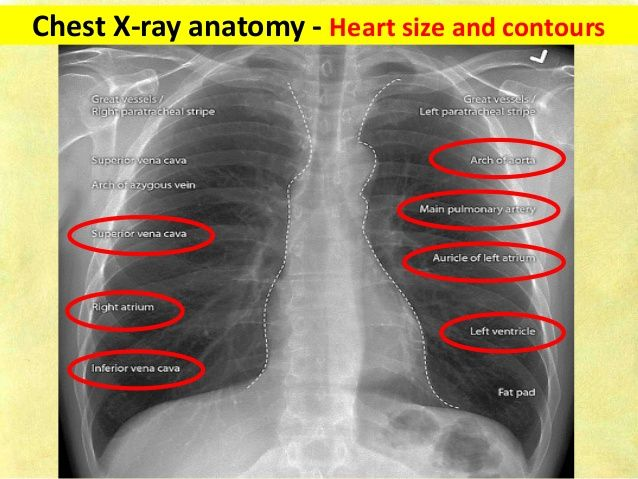telestration: (355, 78, 461, 410), (1, 4, 638, 46), (240, 78, 317, 396), (399, 240, 566, 285), (397, 189, 562, 231), (65, 214, 218, 258), (430, 135, 565, 181), (64, 347, 207, 390), (432, 312, 568, 354), (64, 288, 187, 333), (89, 91, 217, 120), (417, 92, 537, 119), (418, 202, 537, 218), (91, 178, 197, 192), (90, 361, 184, 376), (432, 252, 535, 264), (91, 228, 186, 240), (90, 156, 189, 167), (469, 324, 536, 337), (91, 300, 156, 312), (470, 154, 539, 165), (493, 385, 537, 398)
